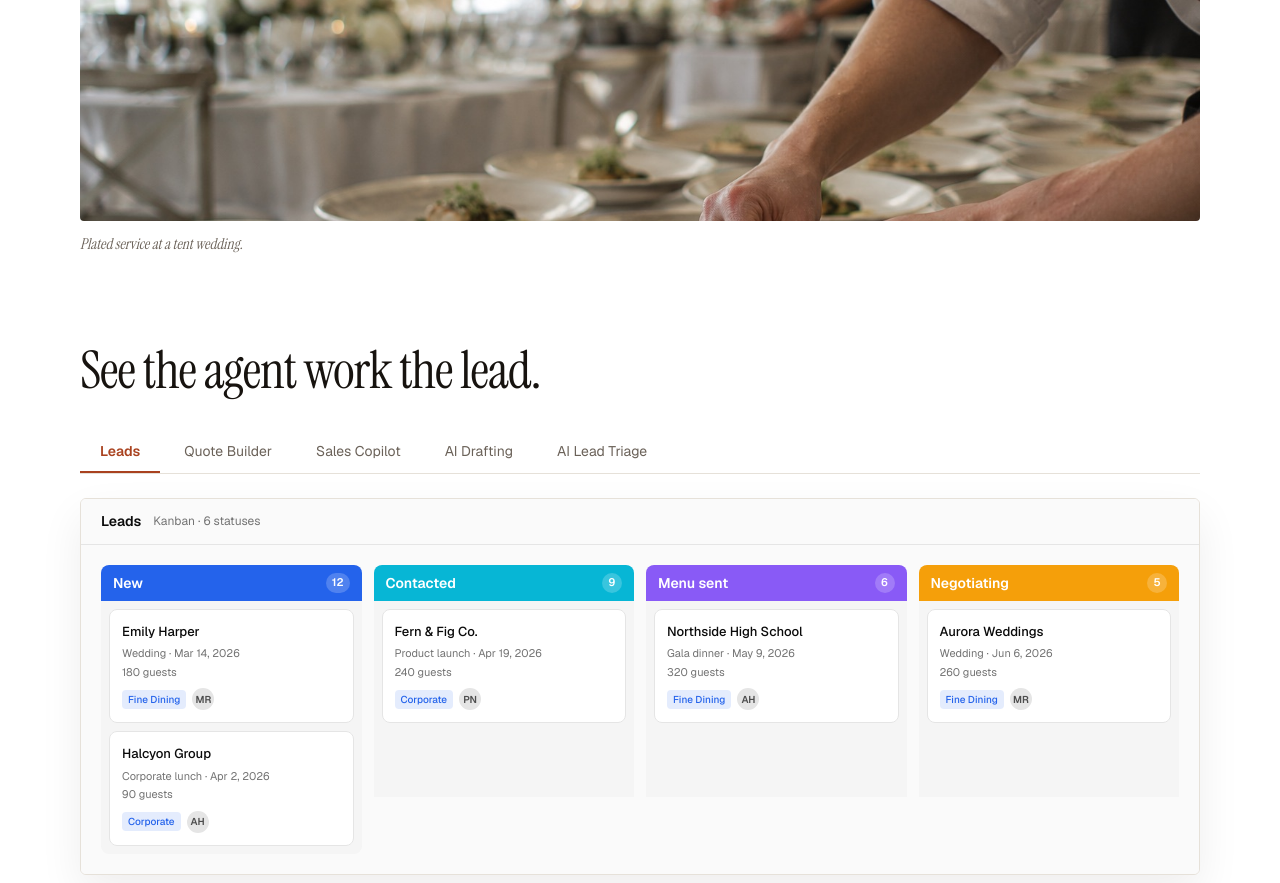
Test: LandingPage (REL-482) › switches between the product screens (AC5)
The width and height of the screenshot is (1280, 883).
(page scrolled)
Check: the text "Negotiating" is shown, box top-left (930, 573), bottom-right (1009, 593)
Click the button "Quote Builder".
click(228, 451)  # box top-left (164, 429), bottom-right (292, 473)
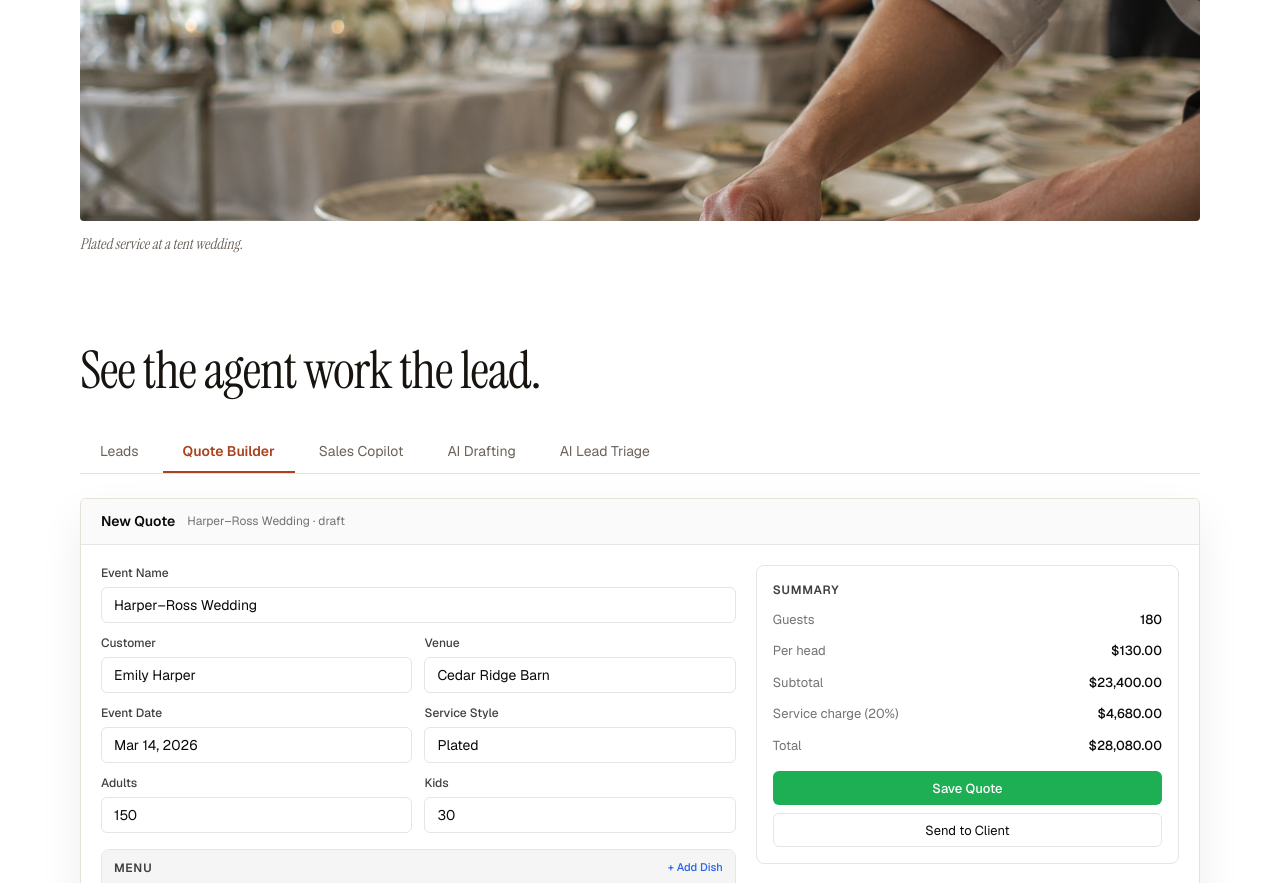
Check: the text "Save Quote" is shown, box top-left (773, 771), bottom-right (1162, 805)
Click the button "Sales Copilot".
click(361, 451)  # box top-left (299, 429), bottom-right (423, 473)
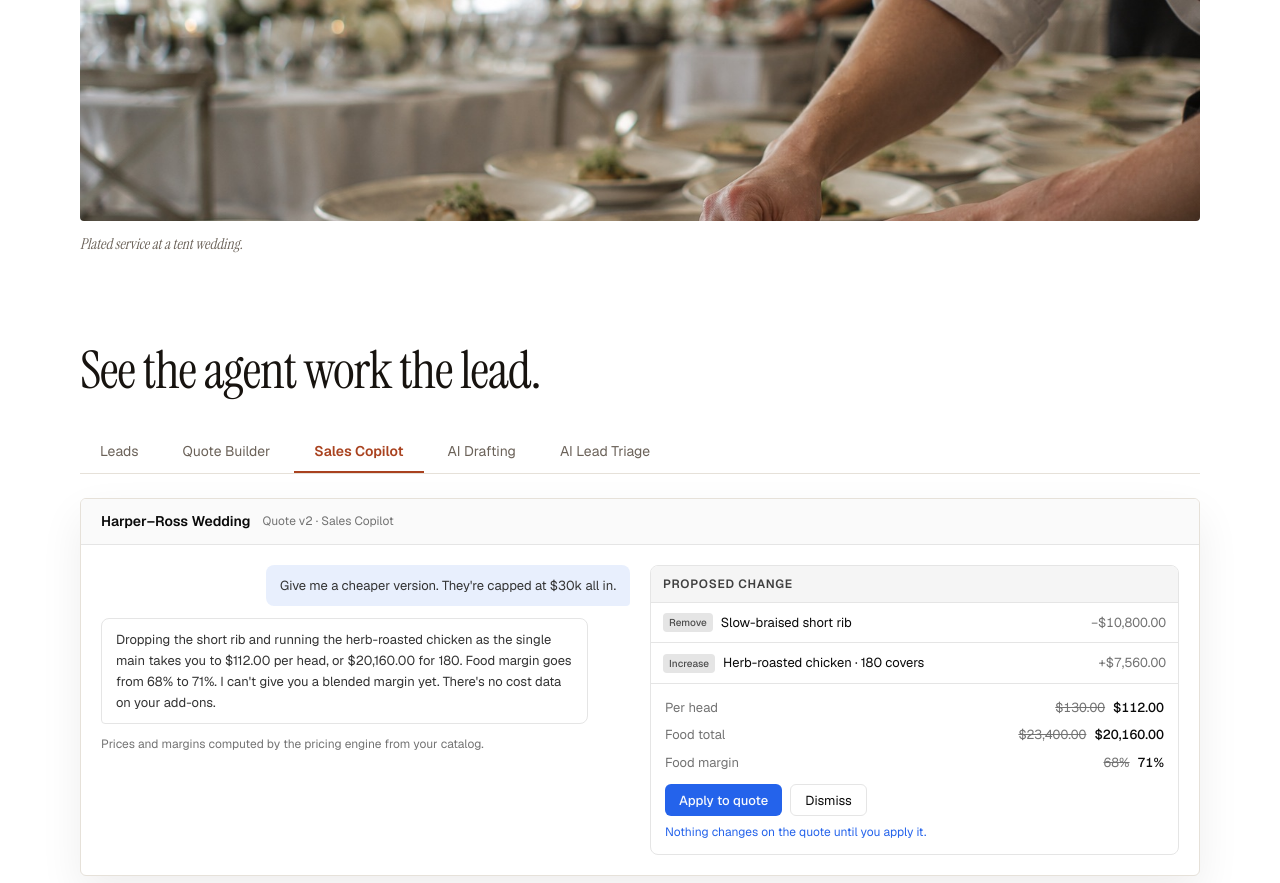
Check: the text "Proposed change" is shown, box top-left (651, 566), bottom-right (1178, 603)
Click the button "AI Drafting".
click(482, 451)  # box top-left (428, 429), bottom-right (536, 473)
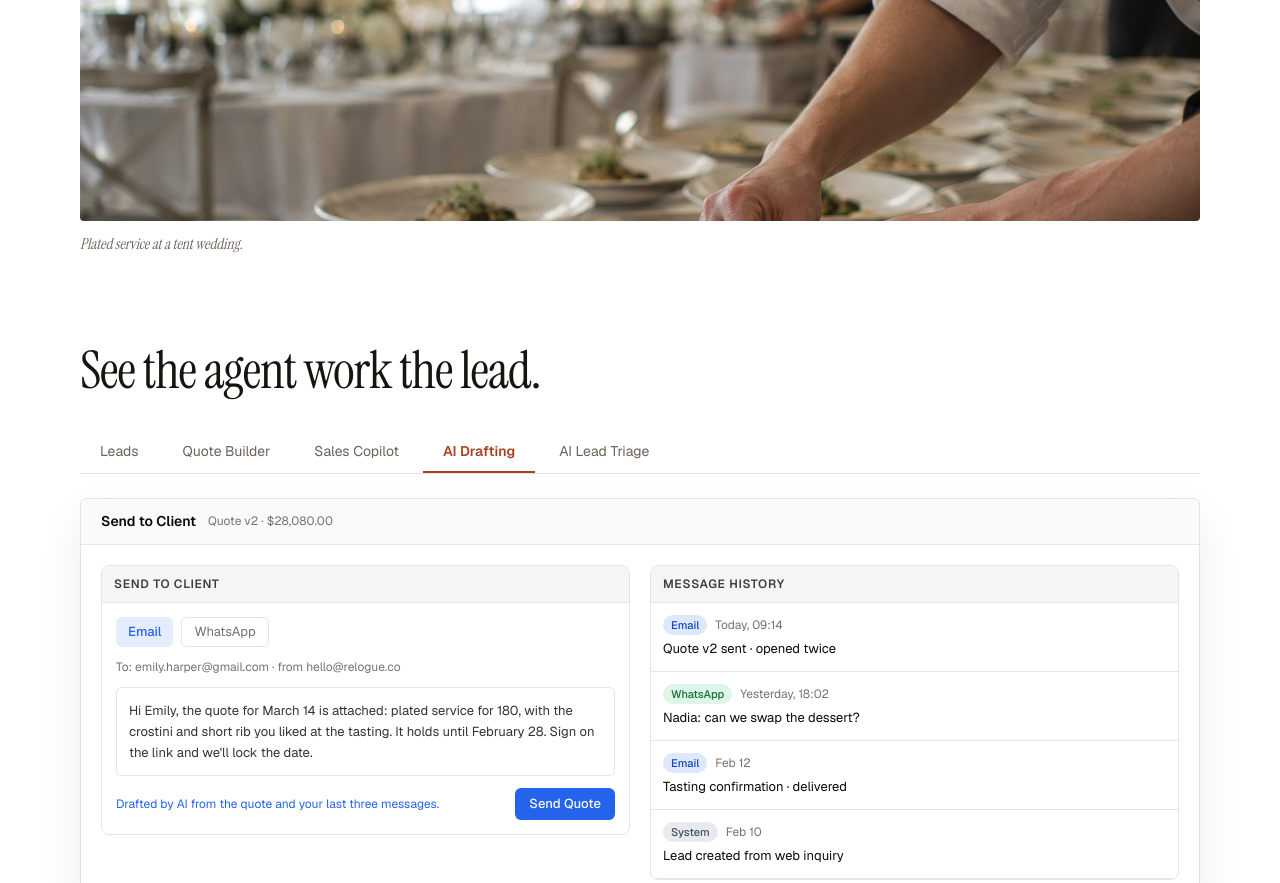
Check: the text "Message History" is shown, box top-left (651, 566), bottom-right (1178, 603)
Click the button "AI Lead Triage".
click(604, 451)  # box top-left (539, 429), bottom-right (669, 473)
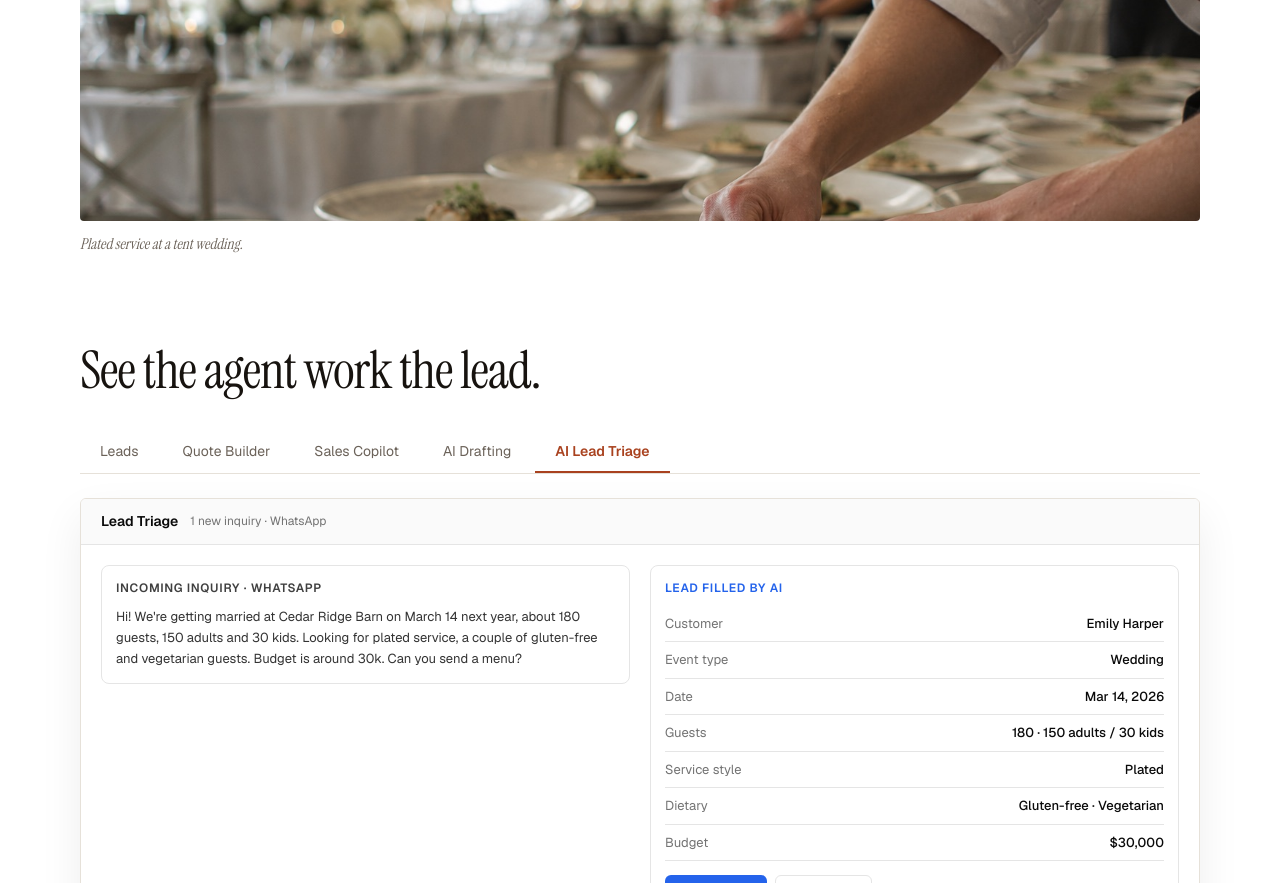
Check: the text "Lead filled by AI" is shown, box top-left (665, 580), bottom-right (783, 596)
